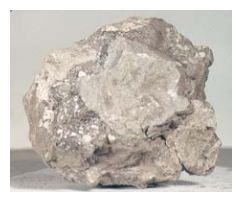Breccia: (19, 12, 218, 180)
